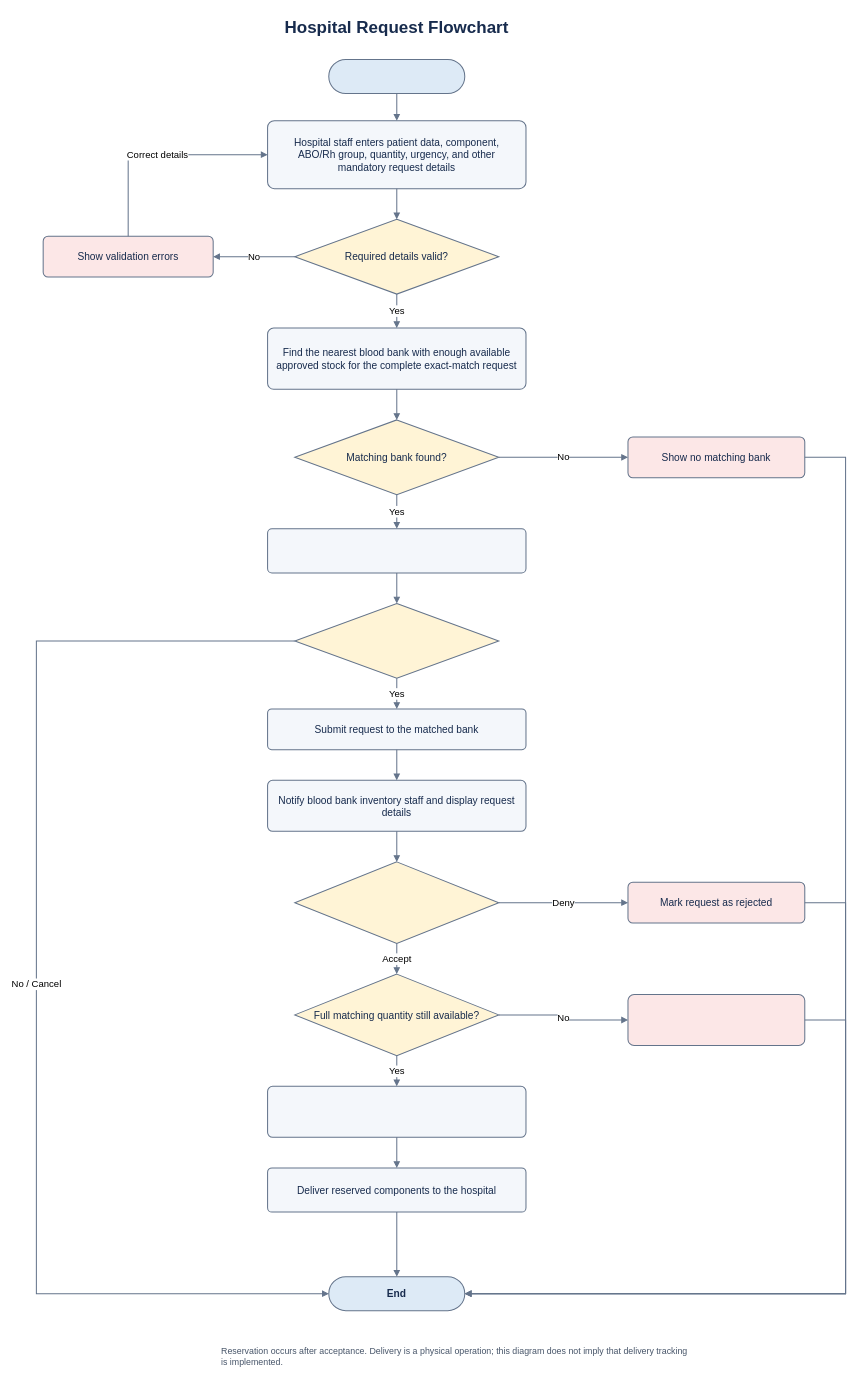
Image size: 864x1390. Some labels were removed from this diagram. Each missing label, with the box of its shape:
Accept request and reserve the required blood components: (267, 1085, 526, 1138)
Hospital staff confirms?: (294, 603, 499, 679)
Inventory staff decision: (294, 861, 499, 944)
Reject request due to insufficient available stock: (627, 994, 805, 1046)
Show matching bank and request summary: (267, 528, 526, 573)
Start: (328, 59, 465, 94)
